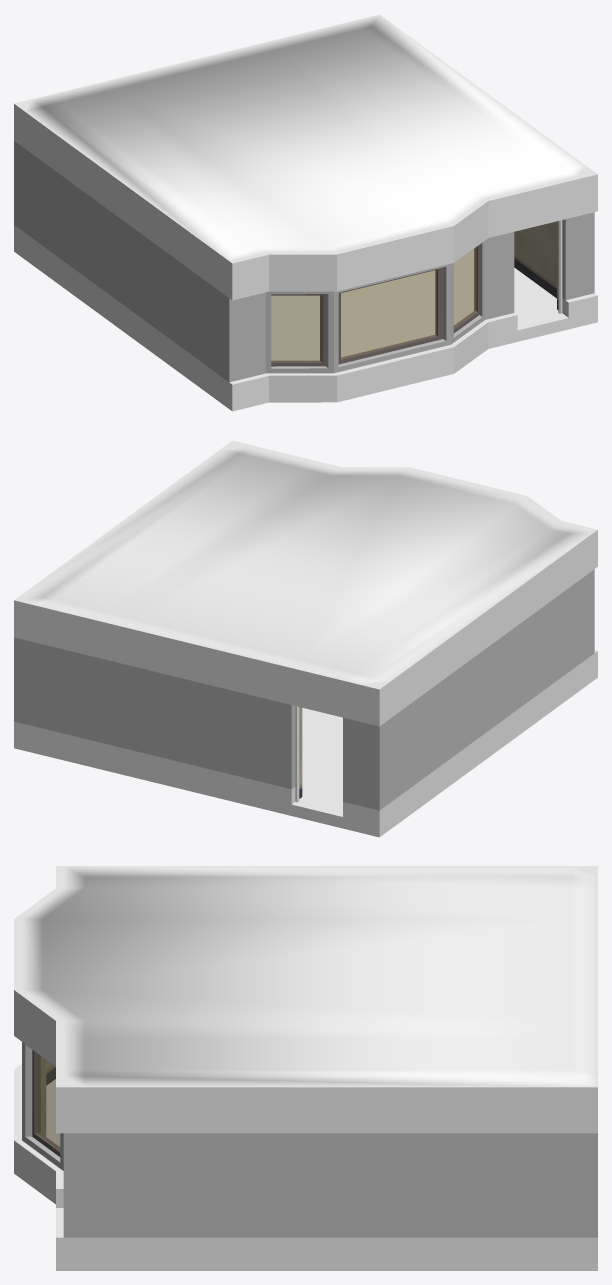
Rendered from SadCentral.fbx_SadCentral.fbx.
3 renders of one model, top to bottom at view 1: azimuth 30°, elevation 25°; view 2: azimuth 150°, elevation 25°; view 3: azimuth 270°, elevation 25°, orthographic. The views are drawn at different scales.
Parts seen in each view (by area): view 1: SadCentral; view 2: SadCentral; view 3: SadCentral.
Part boxes in pixels (<box>): SadCentral: <box>14,14,597,411</box>; SadCentral: <box>14,440,597,837</box>; SadCentral: <box>14,866,597,1270</box>.
Size of the model in its own units: 1000 by 387 by 1115.
